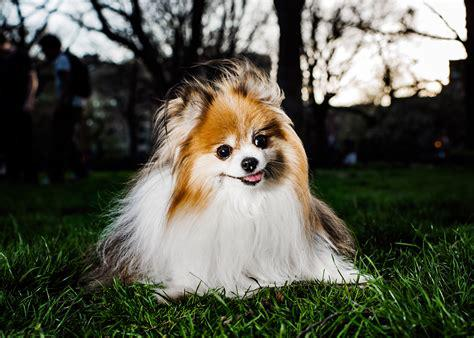dog: (122, 68, 365, 296)
